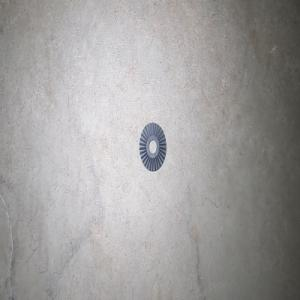Washer: (139, 122, 166, 171)
